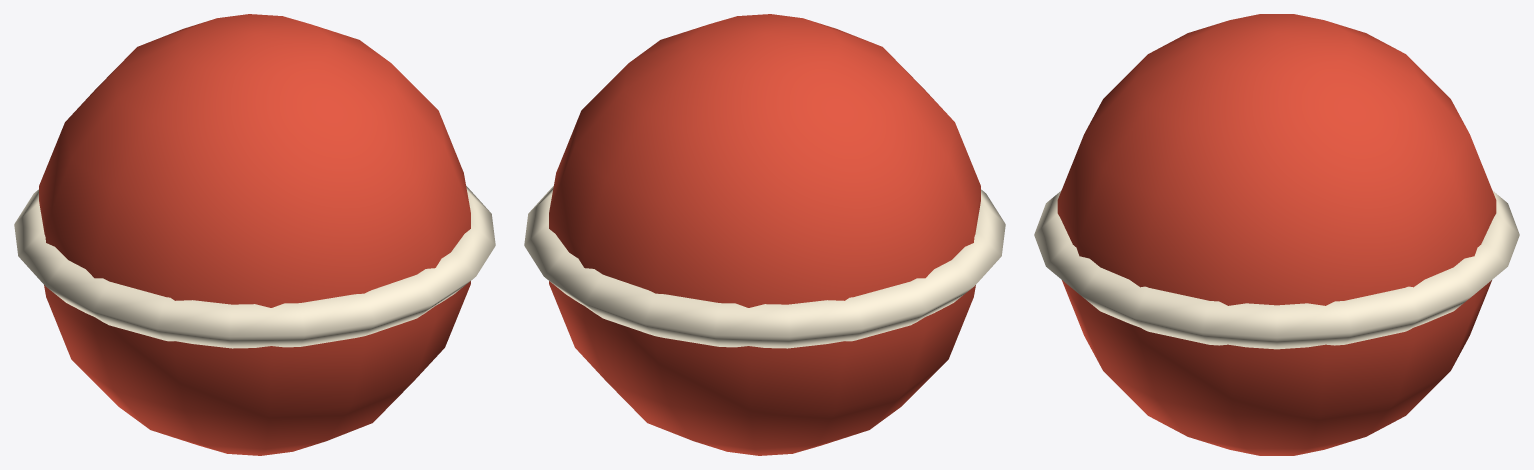
Rendered from ball.glb.
3 views of the same model, side by side, from view 1: azimuth 30°, elevation 25°; view 2: azimuth 150°, elevation 25°; view 3: azimuth 270°, elevation 25° (orthographic).
Parts seen in each view (by area): view 1: ball-body, ball-stripe; view 2: ball-body, ball-stripe; view 3: ball-body, ball-stripe.
Part boxes in pixels (x1,y1,x2,y2): ball-body: (39, 14, 470, 455); ball-stripe: (14, 185, 495, 348); ball-body: (549, 14, 980, 455); ball-stripe: (524, 185, 1005, 348); ball-body: (1057, 14, 1496, 455); ball-stripe: (1034, 190, 1519, 349).
Size of the model in its own units: 0.24 by 0.22 by 0.24.
